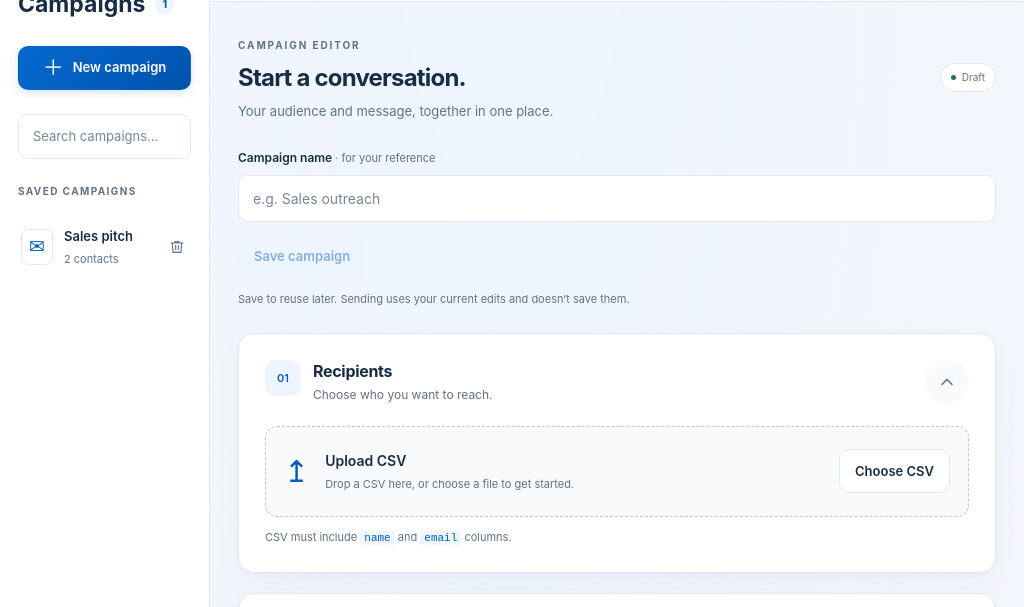
saving shows the server review and edits require a fresh check
Click the button "✉ Sales pitch 2 contacts". click: click(85, 247)
box: 11,212 -> 159,282
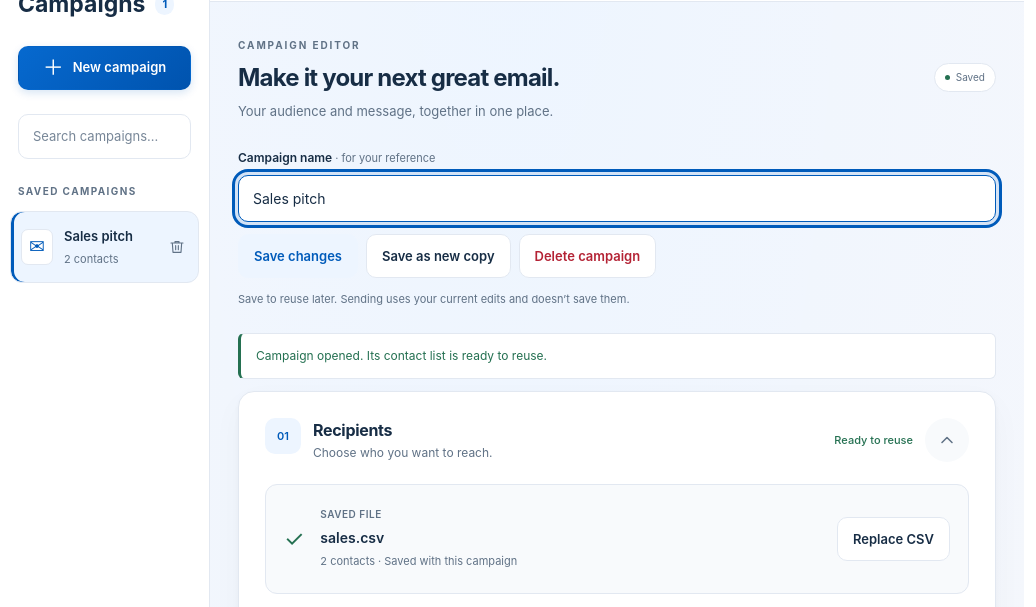
Click the button "Save changes". click: click(298, 256)
box: 238,234 -> 358,278
(page scrolled)
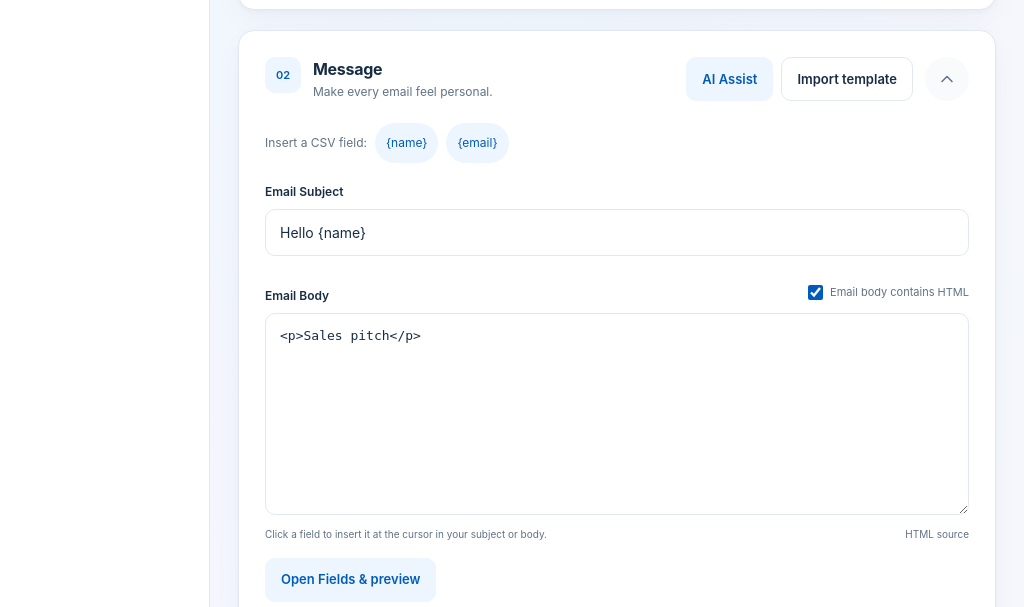
Replace the text in the field labelled "Email Subject" with "A new subject". click: (617, 233)
box: 265,209 -> 969,256
(page scrolled)
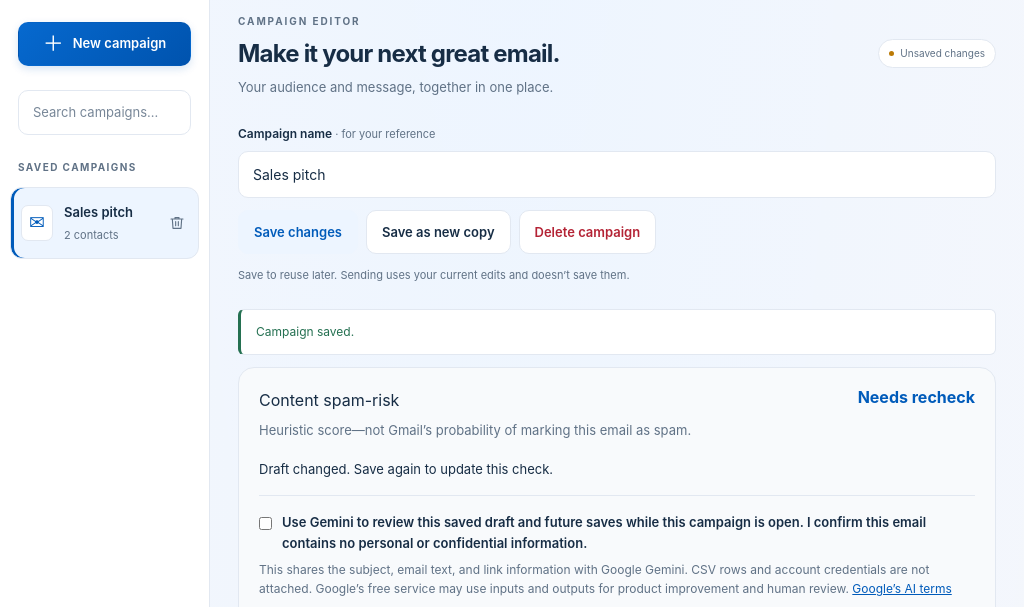
Check: the text "Draft changed. Save again to update this check." is shown, box 259,461 -> 553,477
Click the button "Save changes". click: click(298, 232)
box: 238,210 -> 358,254
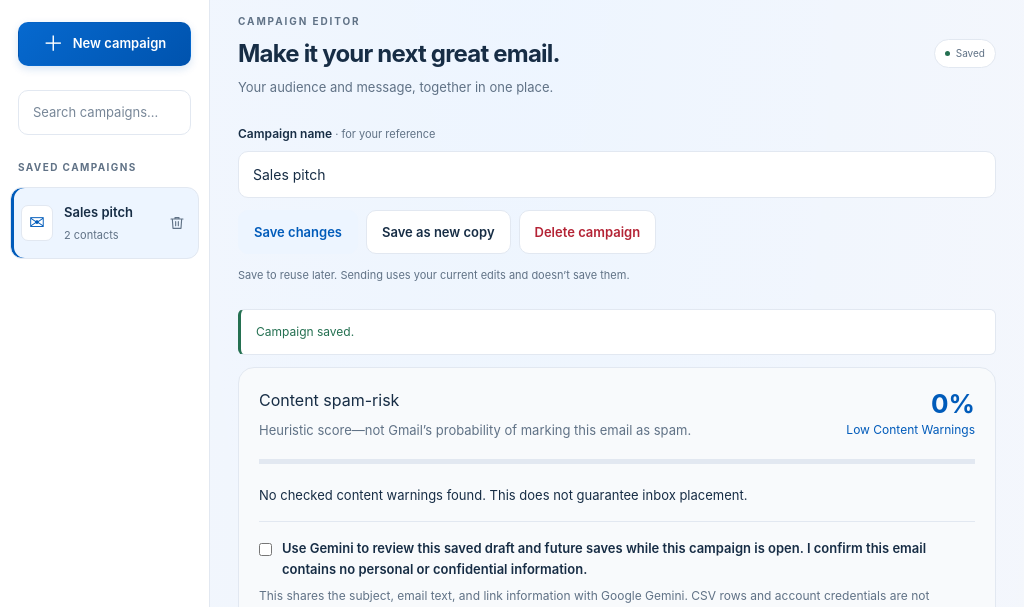
Check: the text "0%" is shown, box 931,388 -> 975,419
Check: the text "Draft changed. Save again" is gone
